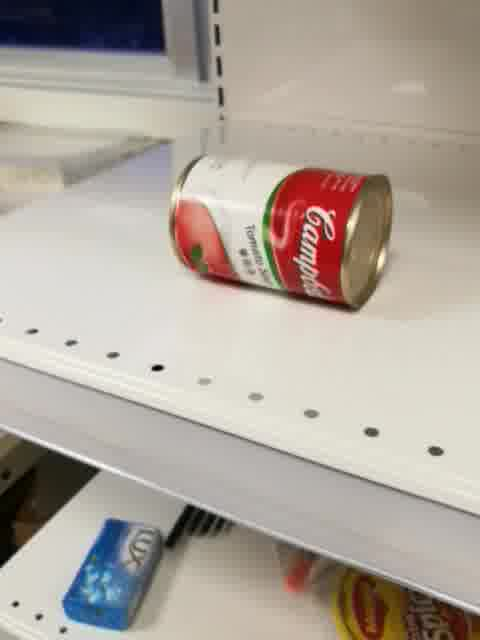tomatosoup: (169, 151, 394, 313)
